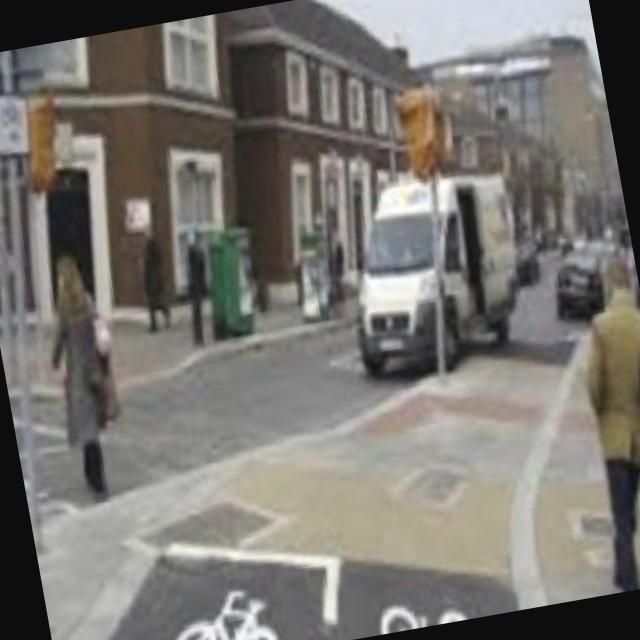Person: (545, 250, 640, 593), (23, 248, 138, 506), (597, 249, 640, 584)
